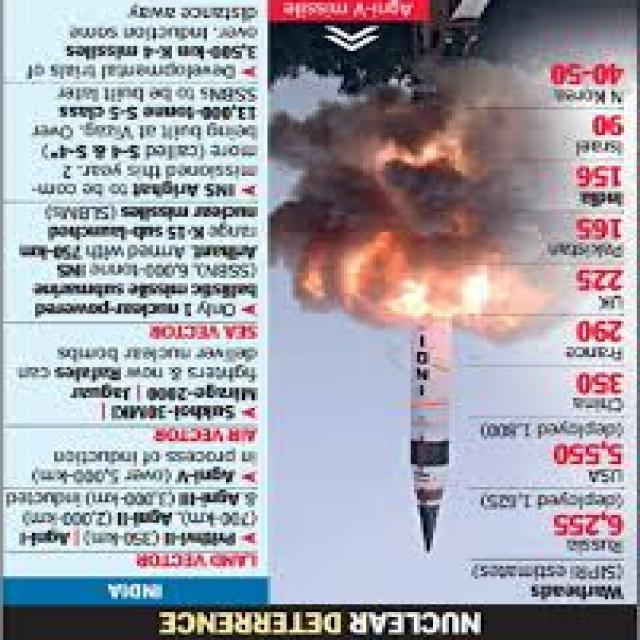missile: (398, 310, 459, 576)
